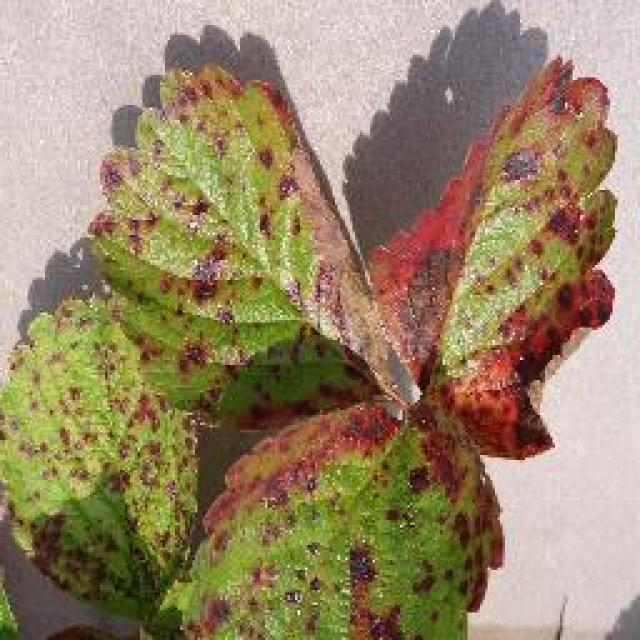Strawberry leaf scorch: (75, 45, 587, 497)
